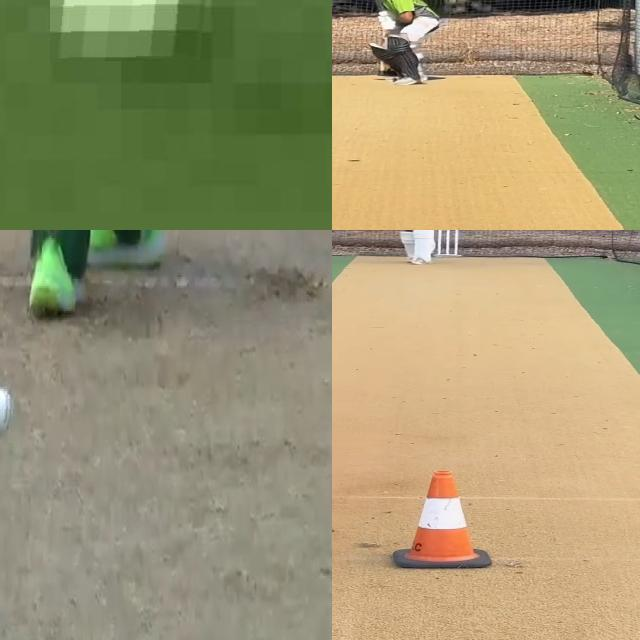Cricket ball: (50, 0, 215, 62), (0, 382, 20, 443), (440, 230, 449, 232)
Stumps: (436, 230, 458, 259)
